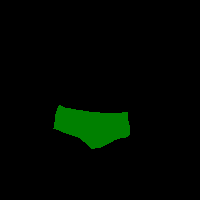mutande: (53, 104, 130, 149)
